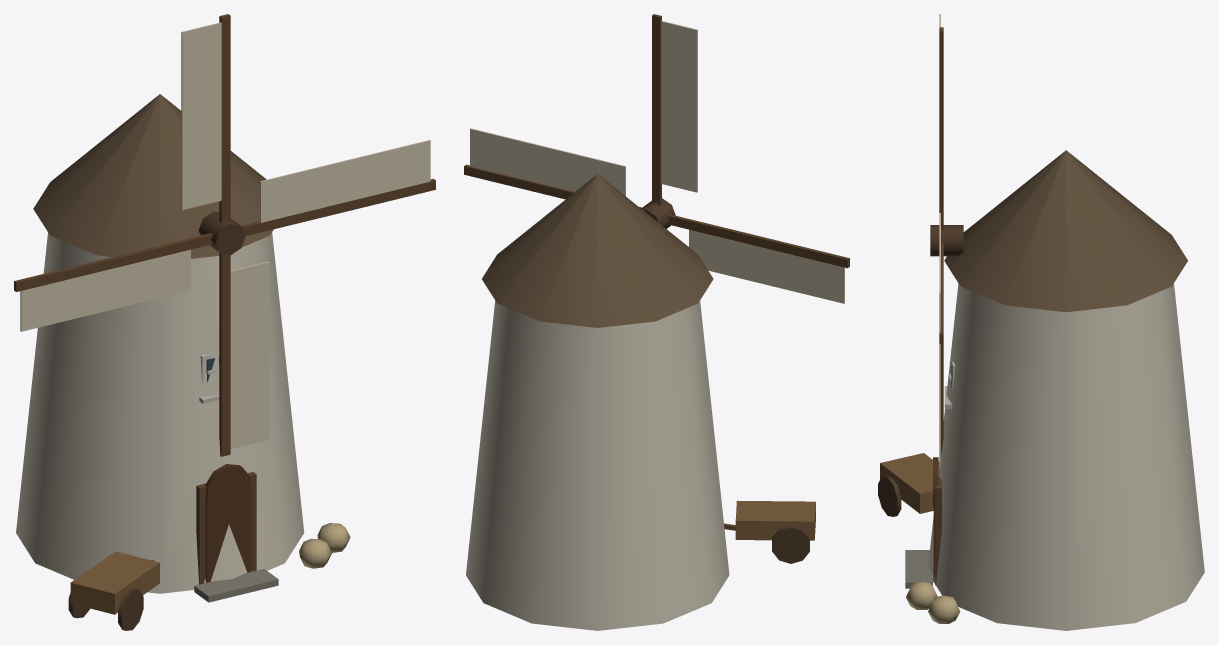
Rendered from procedural_mill@4.glb.
3 renders of one model, left to right at view 1: azimuth 30°, elevation 25°; view 2: azimuth 150°, elevation 25°; view 3: azimuth 270°, elevation 25°, orthographic. The views are drawn at different scales.
Parts seen in each view (by area): view 1: part_0, part_1; view 2: part_0, part_1; view 3: part_0, part_1.
Part boxes in pixels (x1,y1,x2,y2): part_0: (16,94,350,630); part_1: (14,14,435,456); part_0: (466,174,815,630); part_1: (464,14,849,303); part_0: (878,150,1204,630); part_1: (930,14,963,467).
Bounding box in the file's own units: 8.4 × 10.8 × 5.89.
